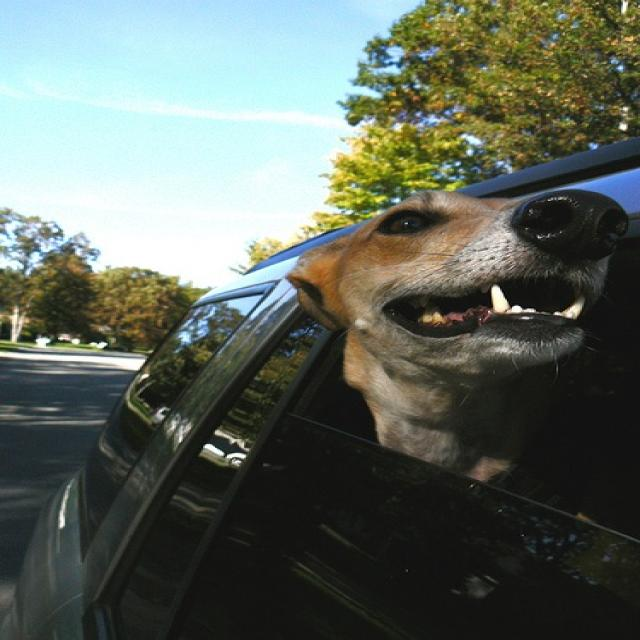dog: (276, 186, 624, 503)
